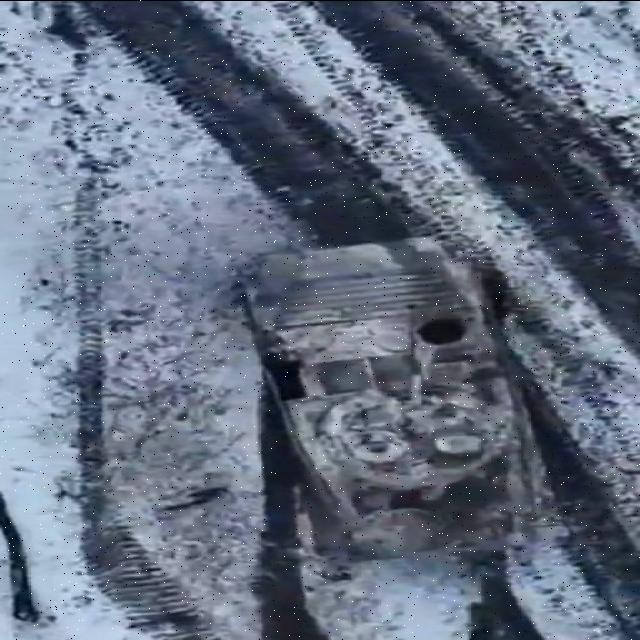APC-IFV: (202, 225, 564, 565)
